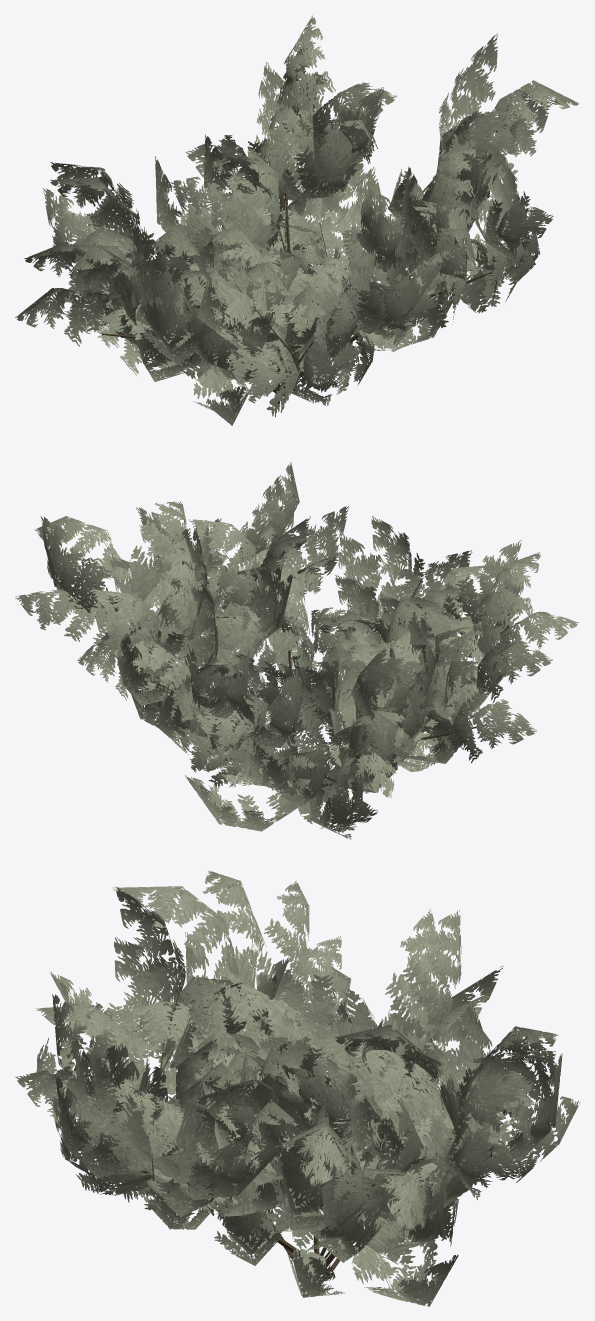
File: SM_CN_Sage_B_LOD1.fbx
3 views of the same model, one above another, from view 1: azimuth 30°, elevation 25°; view 2: azimuth 150°, elevation 25°; view 3: azimuth 270°, elevation 25° (orthographic). The views are drawn at different scales.
Visible parts, largest first — view 1: SM_CN_Sage_B_LOD1; view 2: SM_CN_Sage_B_LOD1; view 3: SM_CN_Sage_B_LOD1.
Part boxes in pixels (box(x1,y1,x2,y2)): SM_CN_Sage_B_LOD1: box(15, 15, 579, 425); SM_CN_Sage_B_LOD1: box(15, 462, 579, 839); SM_CN_Sage_B_LOD1: box(15, 870, 580, 1306).
Size of the model in its own units: 1.25 by 0.9305 by 0.62.
